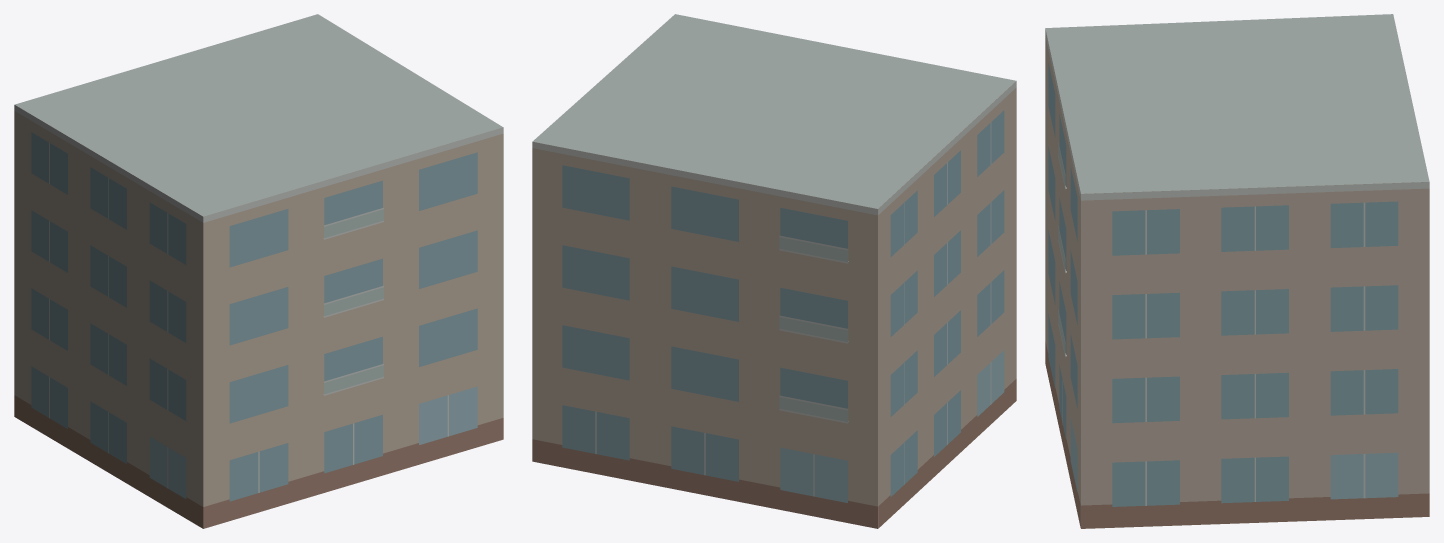
File: survey-upis-32743028.glb
The picture shows the model from 3 angles, left to right: view 1: azimuth 30°, elevation 25°; view 2: azimuth 150°, elevation 25°; view 3: azimuth 270°, elevation 25°; orthographic projection. The views are drawn at different scales.
Visible parts, largest first — view 1: survey-upis-32743028.tmp; view 2: survey-upis-32743028.tmp; view 3: survey-upis-32743028.tmp.
Part boxes in pixels (box(x1,y1,x2,y2)): survey-upis-32743028.tmp: box(14, 14, 503, 528); survey-upis-32743028.tmp: box(532, 14, 1016, 528); survey-upis-32743028.tmp: box(1045, 14, 1429, 528).
Size of the model in its own units: 14.06 by 12.2 by 12.69.
